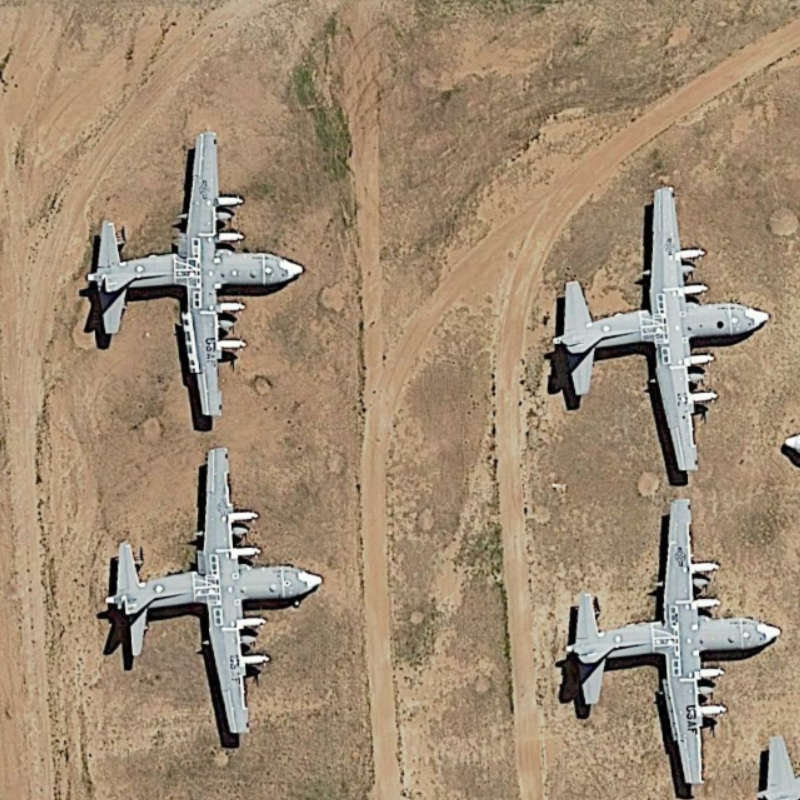A2: (94, 436, 343, 739), (545, 171, 772, 484), (559, 493, 789, 792), (86, 120, 308, 427)
